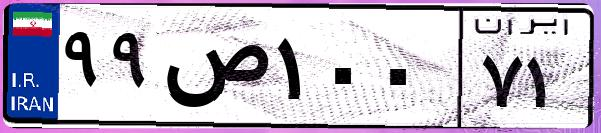0: (385, 28, 445, 110), (330, 28, 385, 110)
1: (270, 28, 330, 110), (525, 38, 570, 115)
7: (475, 38, 525, 113)
9: (57, 26, 110, 100), (110, 28, 158, 98)
ص: (158, 20, 270, 120)
